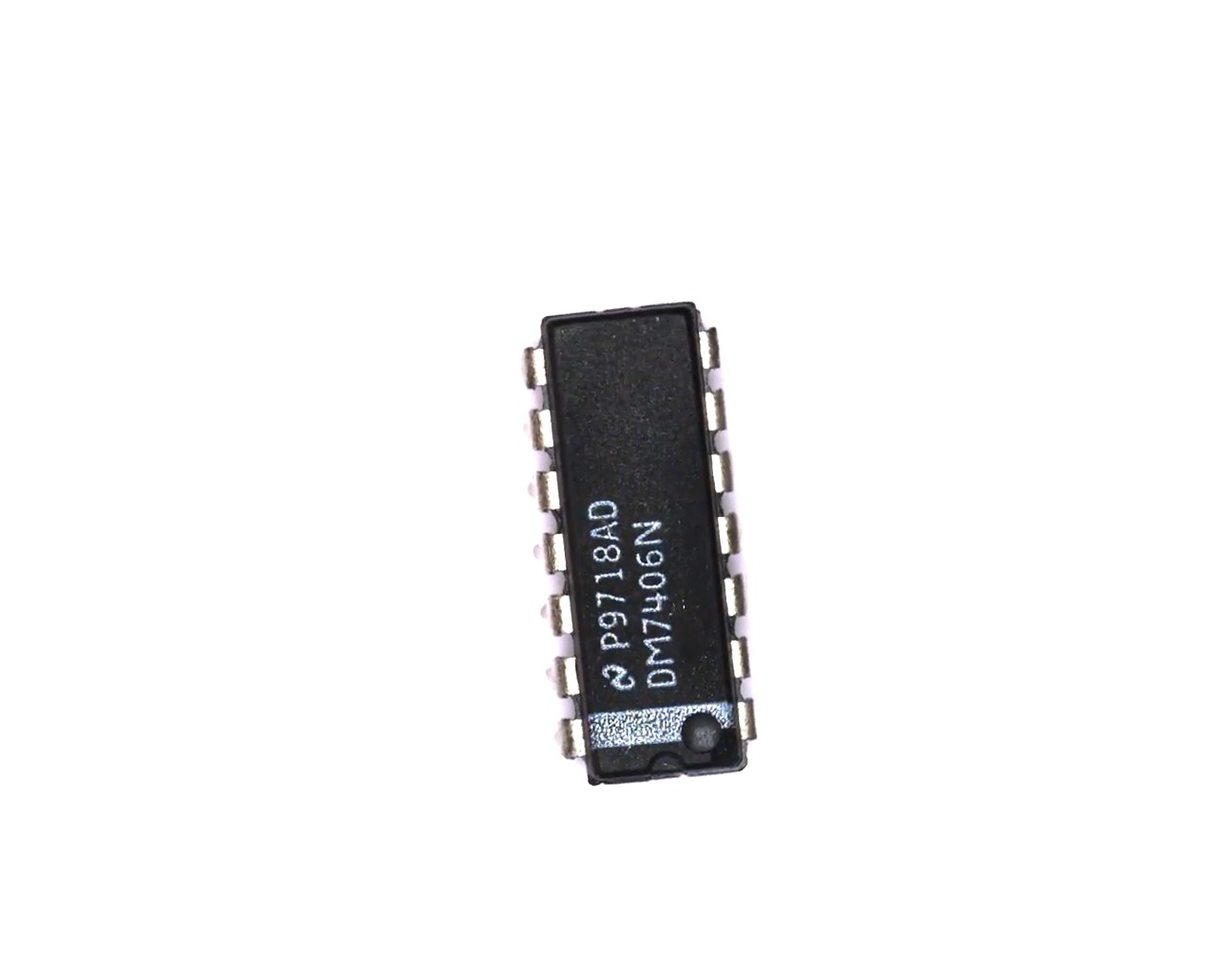IC: (506, 281, 777, 805)
notch: (645, 748, 687, 783)
